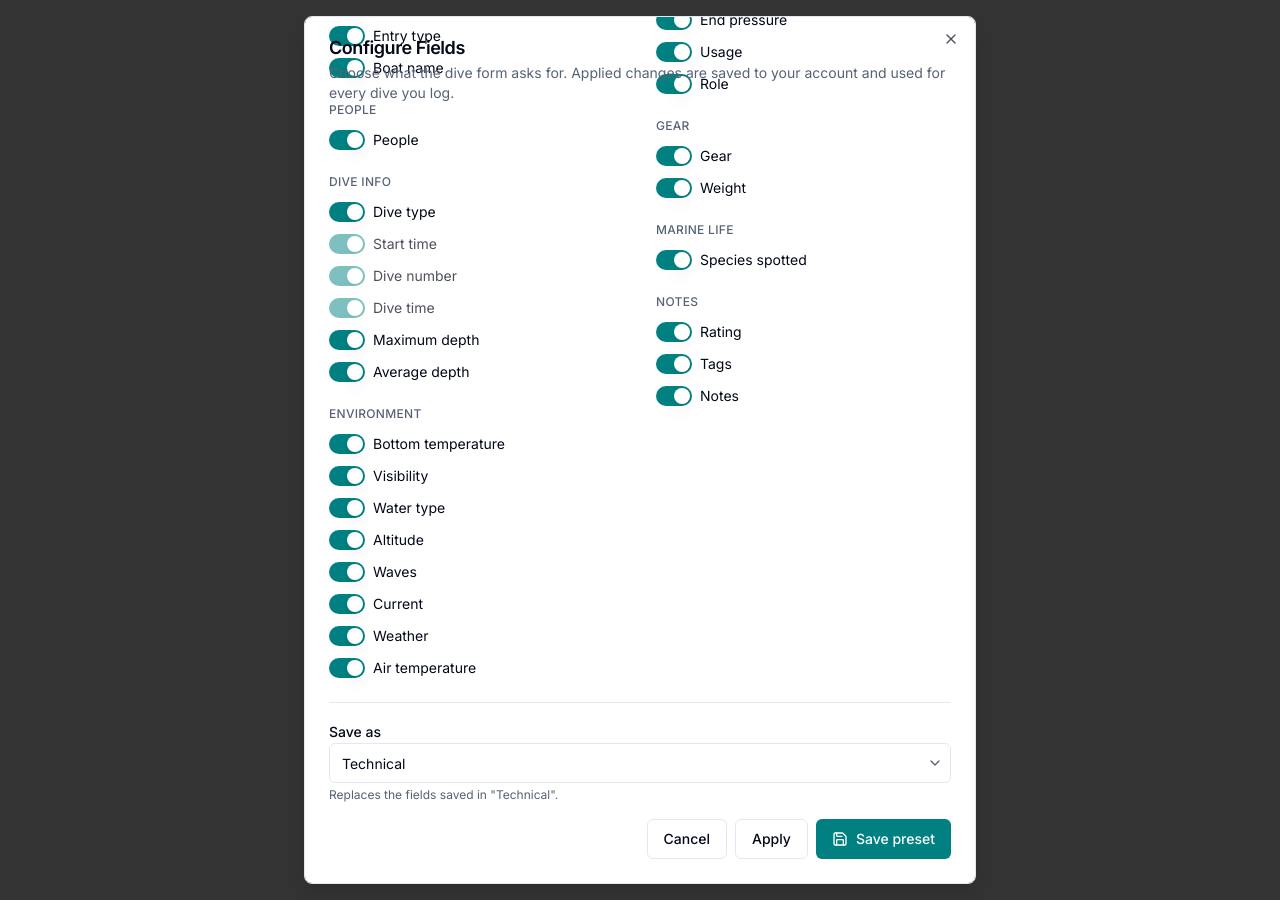
Test case: DiveFormFieldsDialog › drops the whole list down on the name it was seeded with
The width and height of the screenshot is (1280, 900).
(page scrolled)
Click the dropdown labelled "Save as" at (640, 763), box [329,743,951,783]
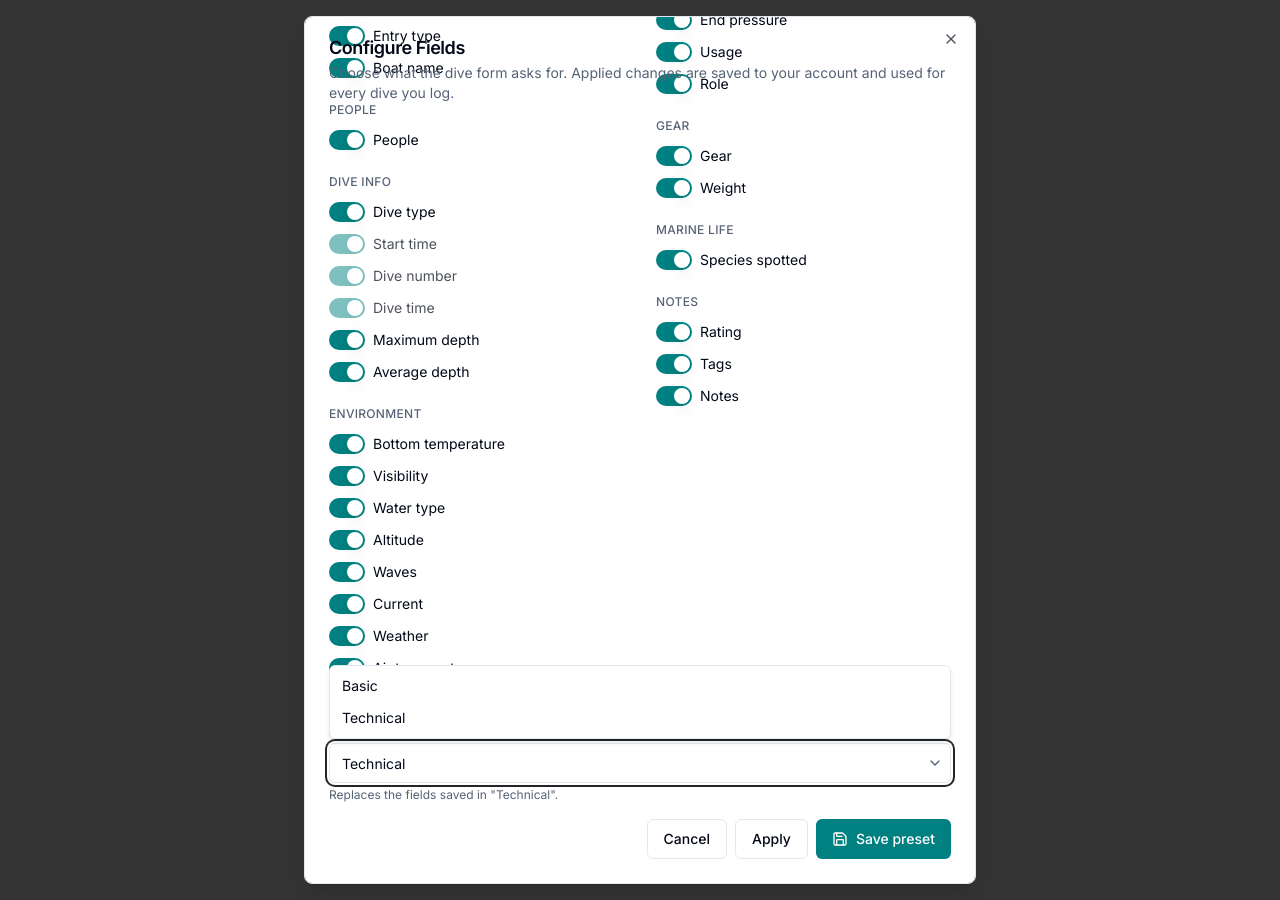
Expected: the options read "Basic", "Technical", in this order, [334,670,946,702]; [334,702,946,734]
